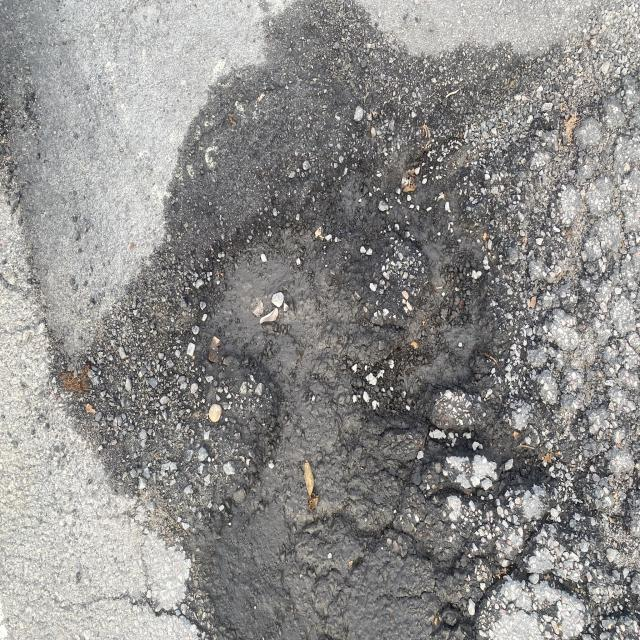pothole: (178, 184, 453, 640)
